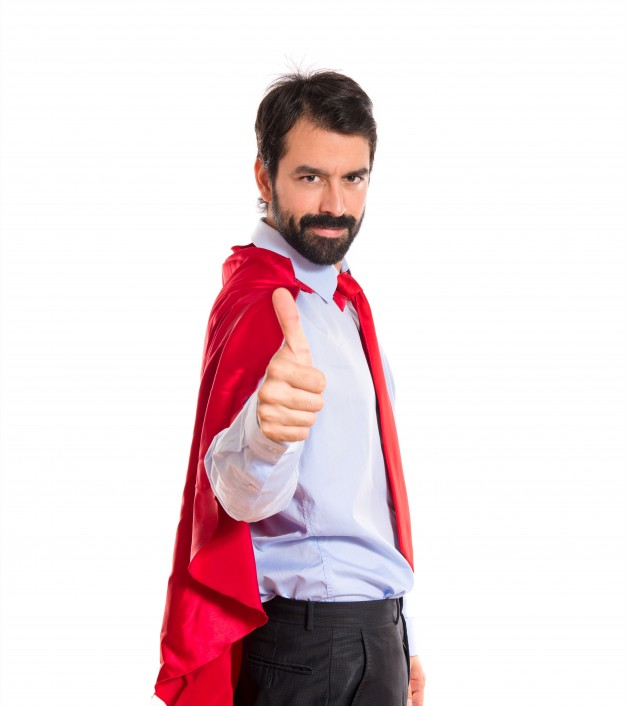thumbsup: (257, 288, 326, 442)
